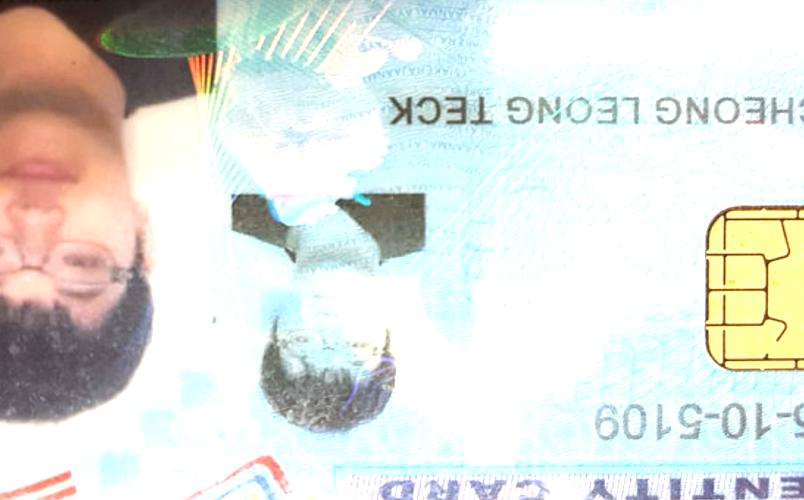hologramB: (219, 2, 384, 188)
